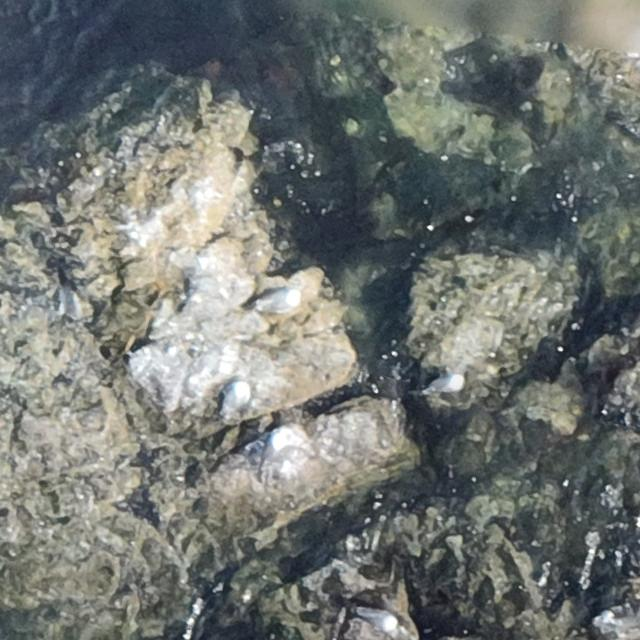umineko: (218, 374, 254, 419), (348, 603, 402, 631), (262, 429, 288, 469), (260, 288, 296, 308), (432, 377, 459, 393)
